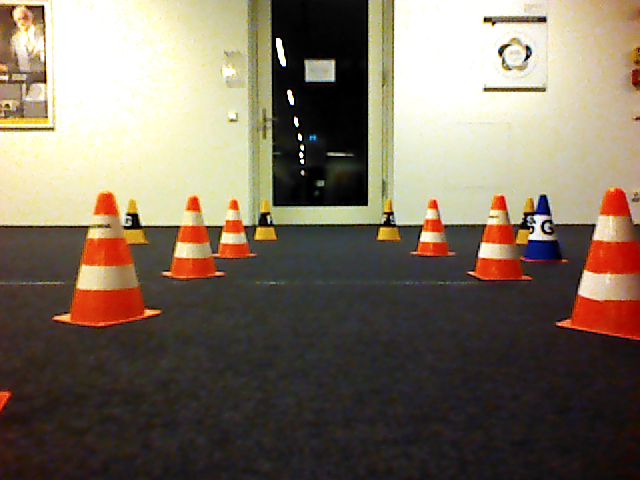bluecone: (519, 194, 569, 264)
orangeconesmall: (53, 190, 162, 330), (556, 186, 640, 342), (465, 194, 537, 283), (161, 194, 226, 281), (409, 198, 458, 259), (211, 198, 258, 261)
yellowcone: (376, 199, 404, 242), (254, 199, 279, 242), (515, 196, 532, 246)
